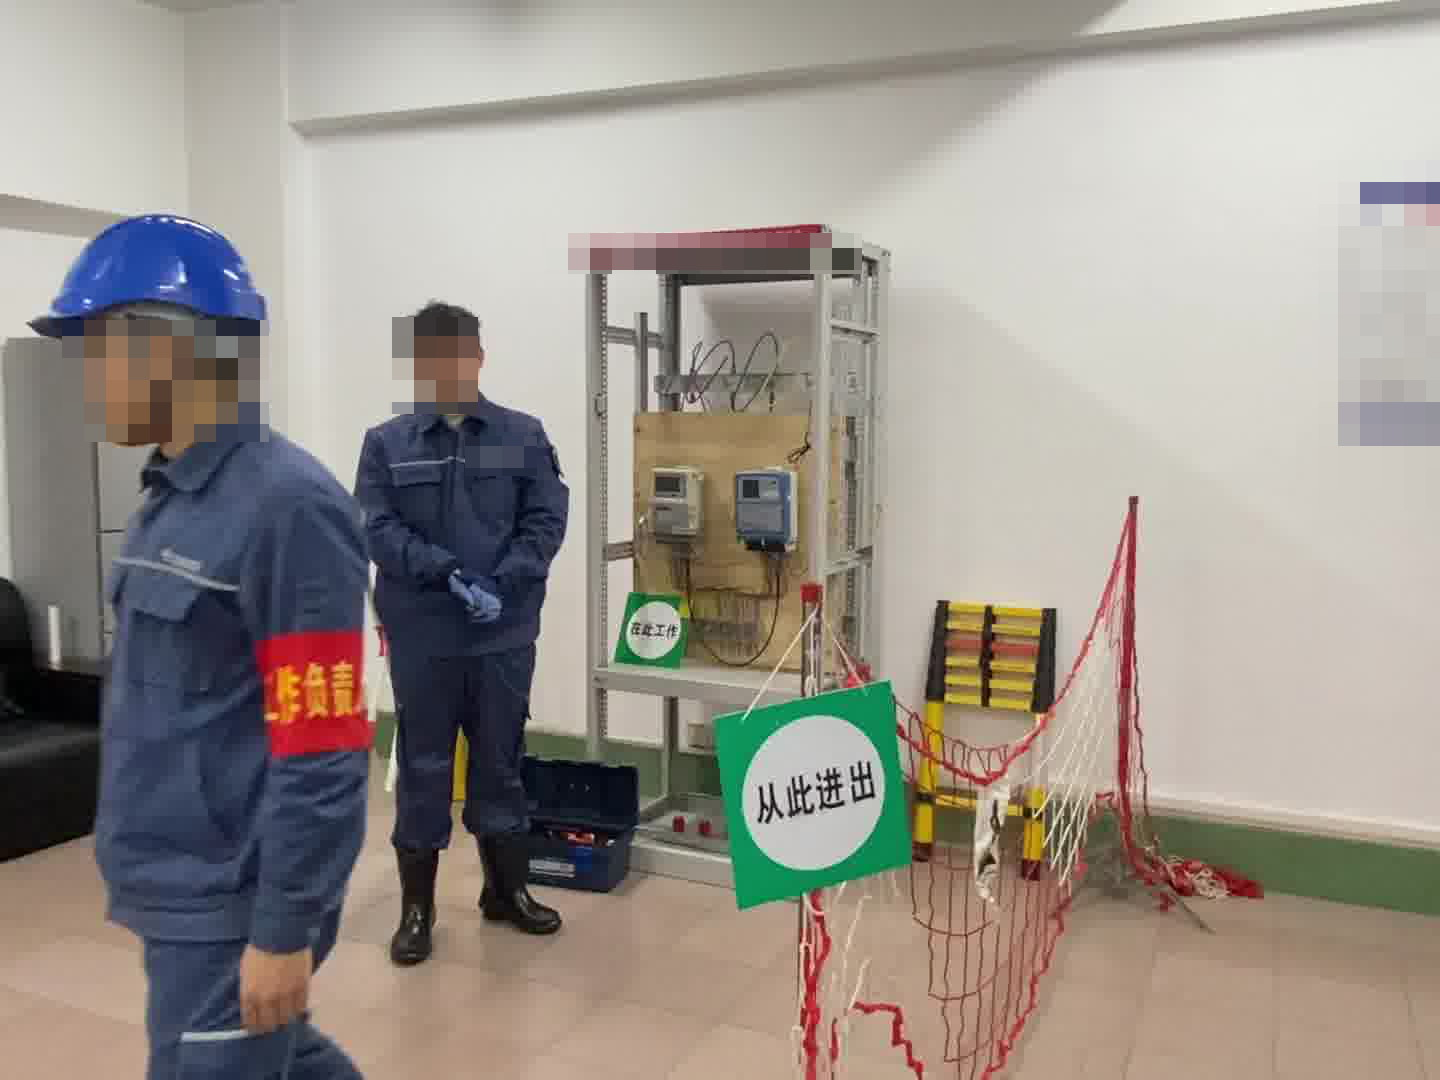badge: (257, 629, 371, 765)
downsuit: (133, 944, 382, 1080), (387, 665, 543, 849)
glove: (444, 567, 505, 623)
halt: (29, 209, 285, 452)
hand: (233, 939, 314, 1034)
inear: (108, 307, 222, 420)
intosign: (706, 679, 911, 912)
person: (51, 201, 377, 1080), (362, 300, 572, 937)
shoe: (468, 835, 565, 936), (390, 842, 445, 966)
unhalt: (396, 302, 490, 407)
upsuit: (86, 396, 377, 934), (361, 401, 567, 644)
worksign: (612, 594, 691, 669)
